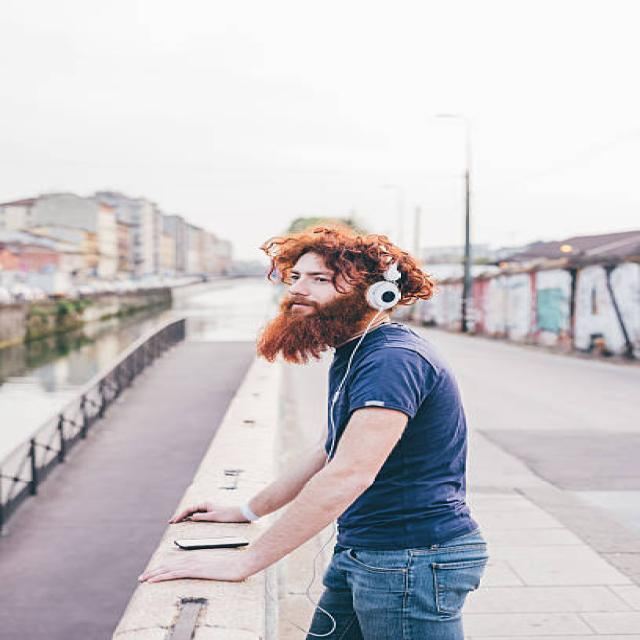Headphone: (362, 244, 402, 312)
